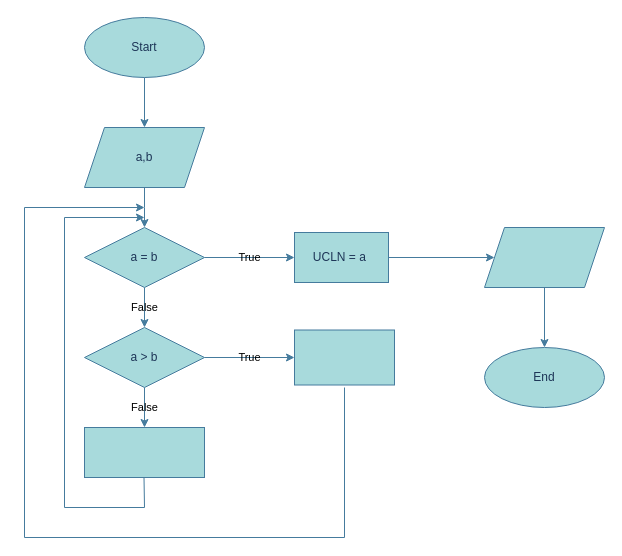
The diagram is 622 pixels wide and 556 high, and some of its shapes have lost their labels. Each missing label, with the centre of its shape:
"a = a - b" goes at pixel 344 357.
"b = b - a" goes at pixel 144 452.
"BCNN = a*b/UCLN(a,b)" goes at pixel 544 257.
